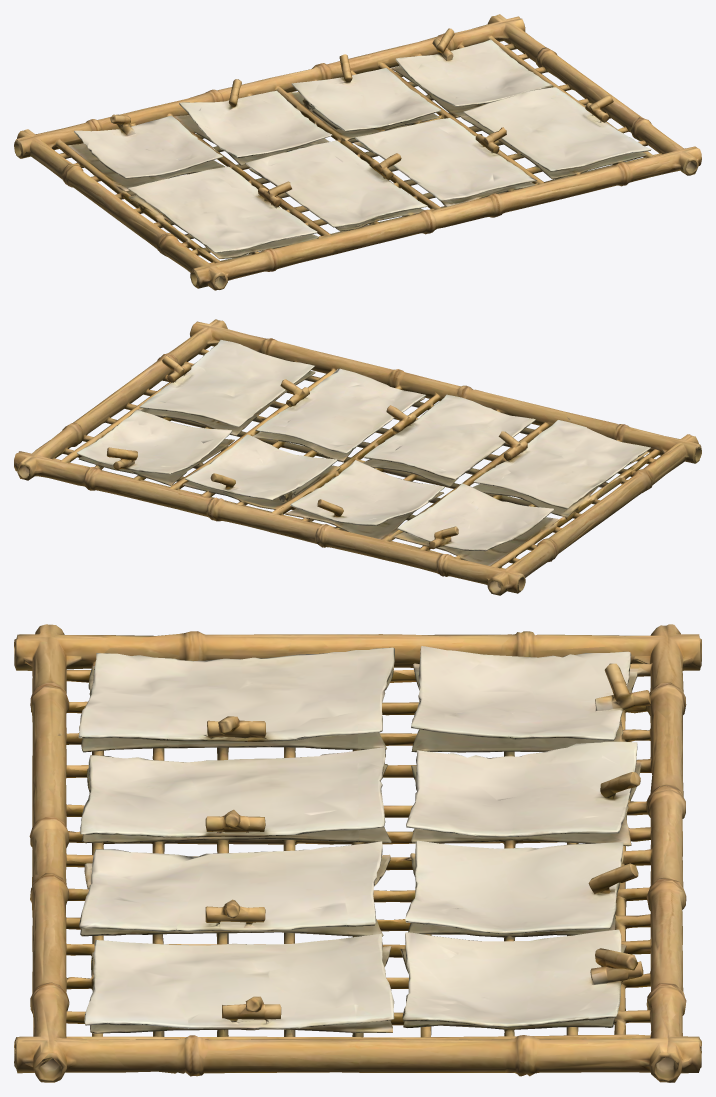
The model's file is phen-phoi-giay.e3d337c9.glb.
3 views of the same model, one above another, from view 1: azimuth 30°, elevation 25°; view 2: azimuth 150°, elevation 25°; view 3: azimuth 270°, elevation 25° (orthographic). The views are drawn at different scales.
Parts seen in each view (by area): view 1: tripo_node_dac47110-188c-4509-a35a-391faa7430d2; view 2: tripo_node_dac47110-188c-4509-a35a-391faa7430d2; view 3: tripo_node_dac47110-188c-4509-a35a-391faa7430d2.
Part boxes in pixels (left/top/right/bottom): tripo_node_dac47110-188c-4509-a35a-391faa7430d2: left=14, top=14, right=701, bottom=290; tripo_node_dac47110-188c-4509-a35a-391faa7430d2: left=14, top=319, right=701, bottom=595; tripo_node_dac47110-188c-4509-a35a-391faa7430d2: left=14, top=624, right=701, bottom=1082.
Size of the model in its own units: 0.986 by 0.0689 by 0.6664.
1 material, 1 textured.
